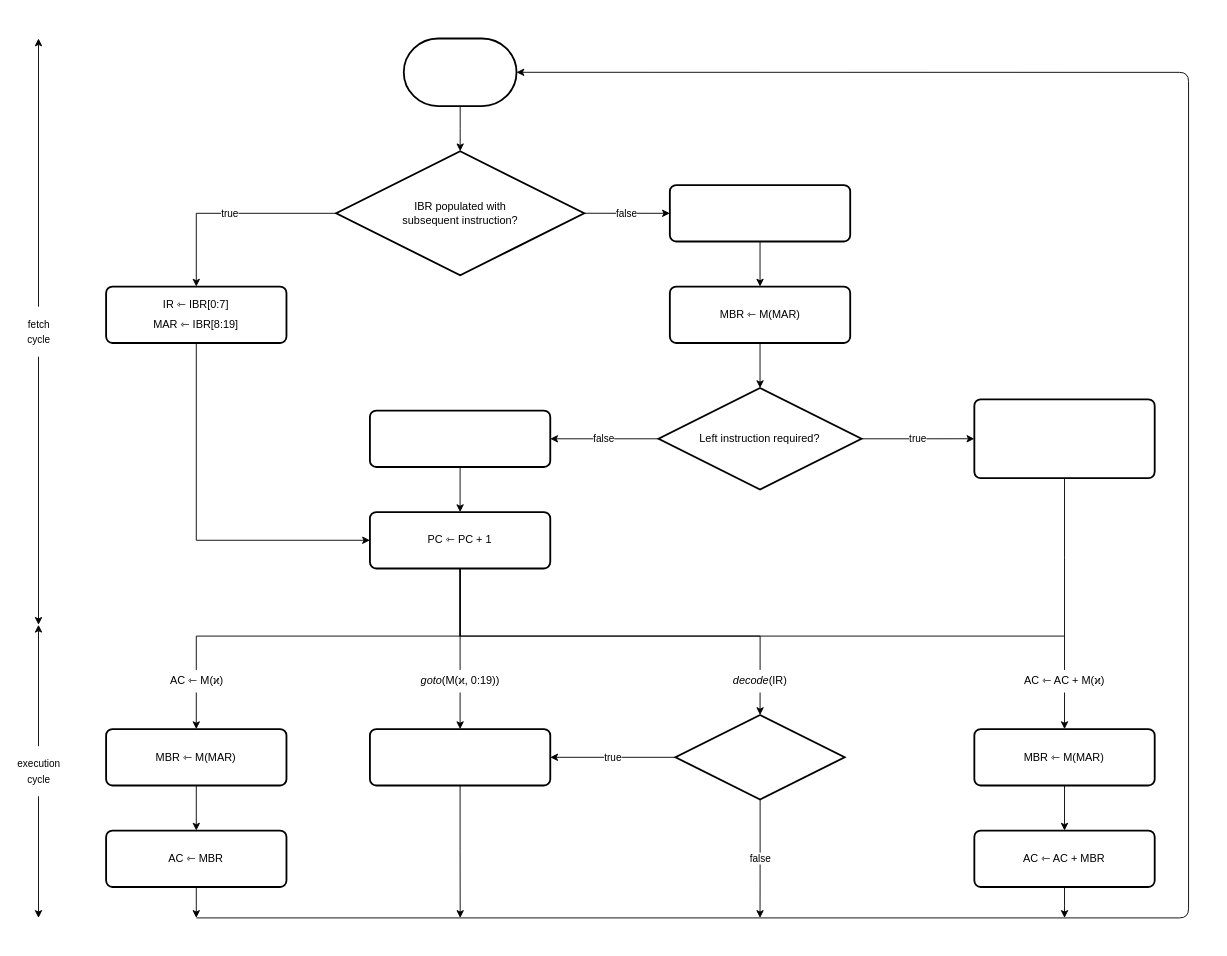
The diagram is 1227 pixels wide and 956 high, and some of its shapes have lost their labels. The shapes that lost their labels are listed below. From the top down, each one's centre as x and y in pixels, then its label:
At pixel 459 72: "START".
At pixel 759 213: "MAR ⇽ PC".
At pixel 460 438: "IR ⇽ MBR[20:27] MAR ⇽ IBR[28:39]".
At pixel 1064 438: "IBR ⇽ MBR[8:19] IR ⇽ IBR[0:7] MAR ⇽ IBR[8:19]".
At pixel 460 757: "PC ⇽ MAR".
At pixel 759 757: "AC > 0".
